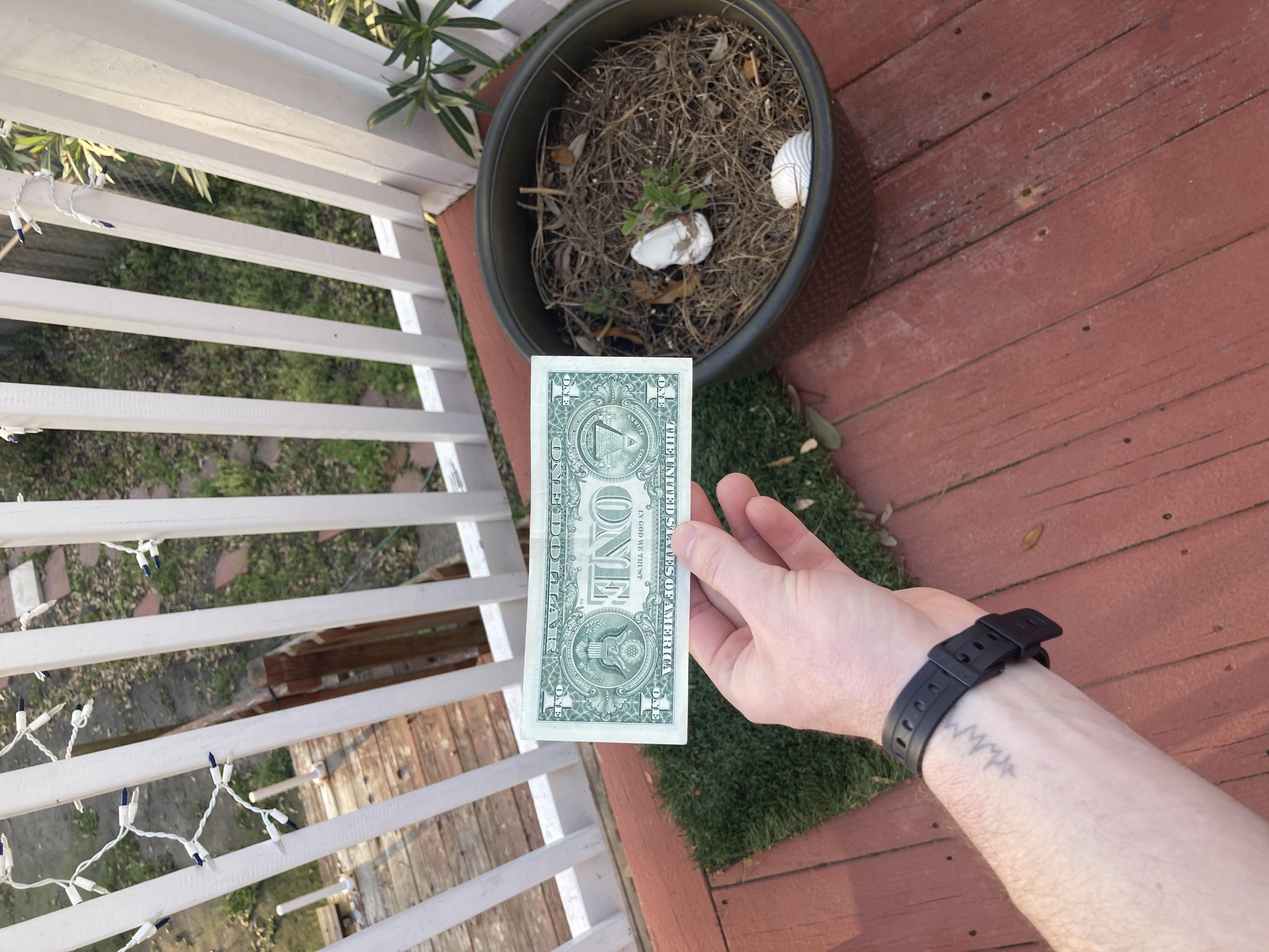one-back: (279, 391, 794, 519)
